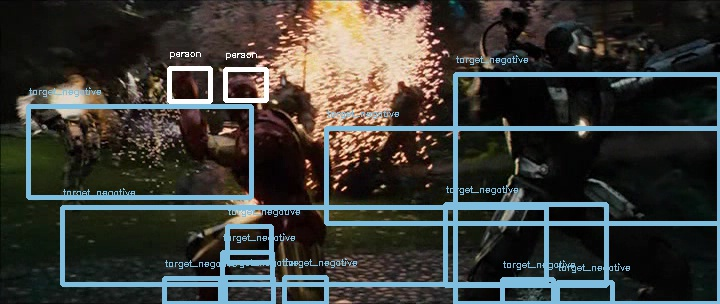person: (217, 71, 258, 118), (216, 71, 257, 118), (218, 71, 259, 118), (217, 70, 258, 117), (217, 72, 258, 119)
target_negative: (148, 111, 613, 247), (262, 63, 598, 107), (472, 212, 604, 278), (195, 184, 327, 195), (158, 229, 626, 232), (296, 267, 298, 300)
